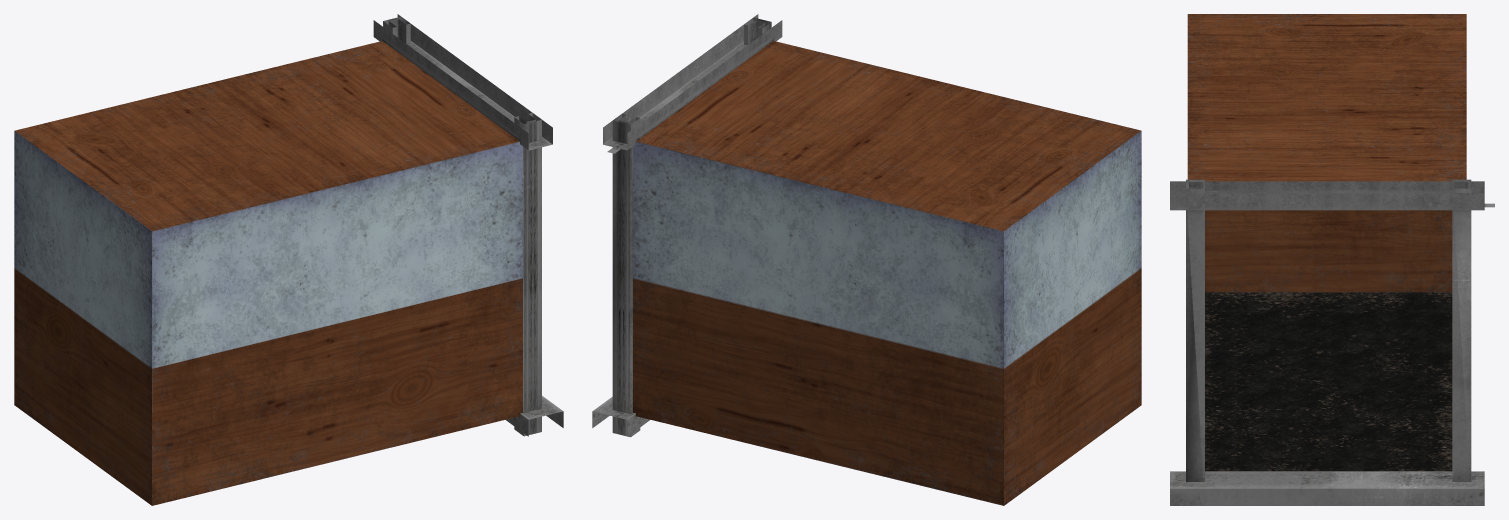
File: Elevator(1).fbx
The picture shows the model from 3 angles, left to right: view 1: azimuth 30°, elevation 25°; view 2: azimuth 150°, elevation 25°; view 3: azimuth 270°, elevation 25°; orthographic projection.
Parts seen in each view (by area): view 1: Elevator; view 2: Elevator; view 3: Elevator.
Part boxes in pixels (x1=…): Elevator: x1=14, y1=14, x2=563, y2=505; Elevator: x1=592, y1=14, x2=1141, y2=505; Elevator: x1=1170, y1=14, x2=1494, y2=505.
Size of the model in its own units: 338 by 250 by 233.
